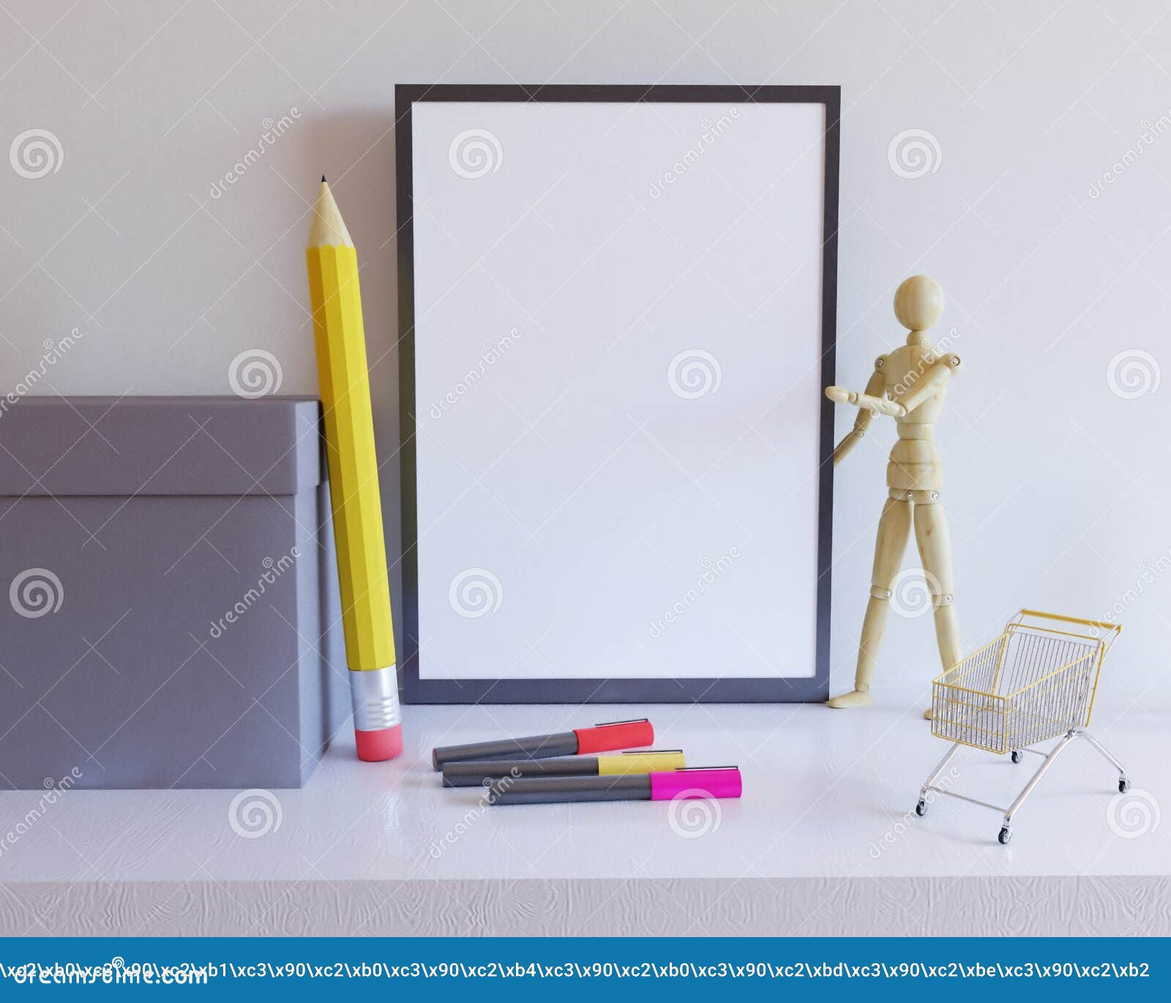not a gesture sign: (343, 85, 960, 705), (927, 611, 1102, 762)
